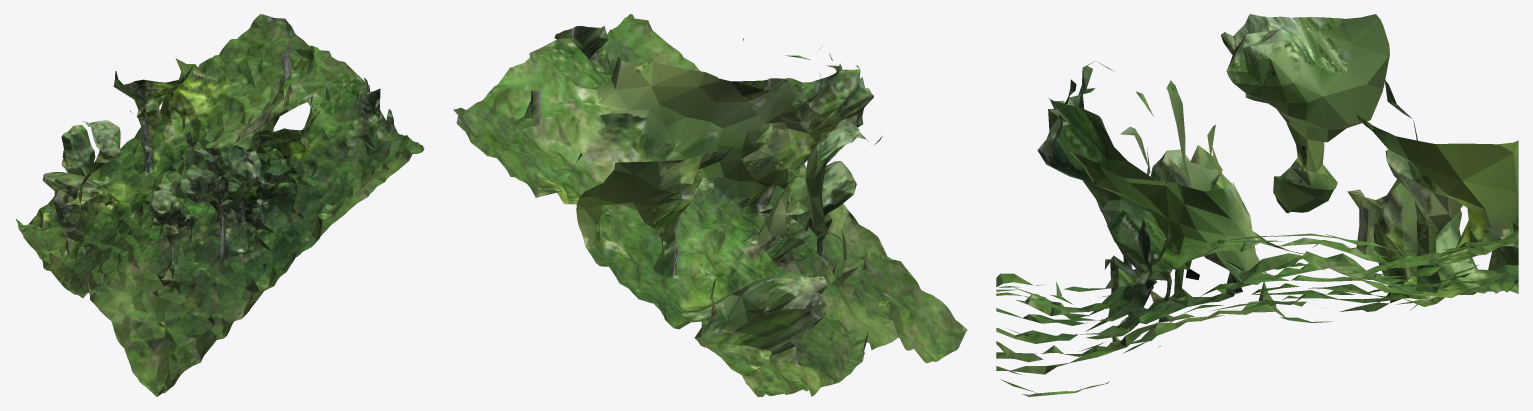
The picture shows the model from 3 angles, left to right: view 1: azimuth 30°, elevation 25°; view 2: azimuth 150°, elevation 25°; view 3: azimuth 270°, elevation 25°; orthographic projection. The views are drawn at different scales.
Bounding box in the file's own units: 26.11 × 21 × 26.11.
Materials: 5 (5 with a texture image).
